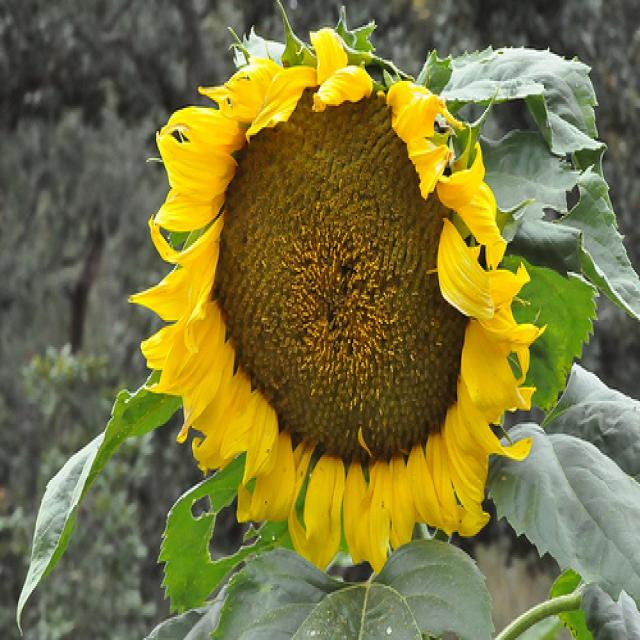sunflower: (133, 51, 530, 564)
